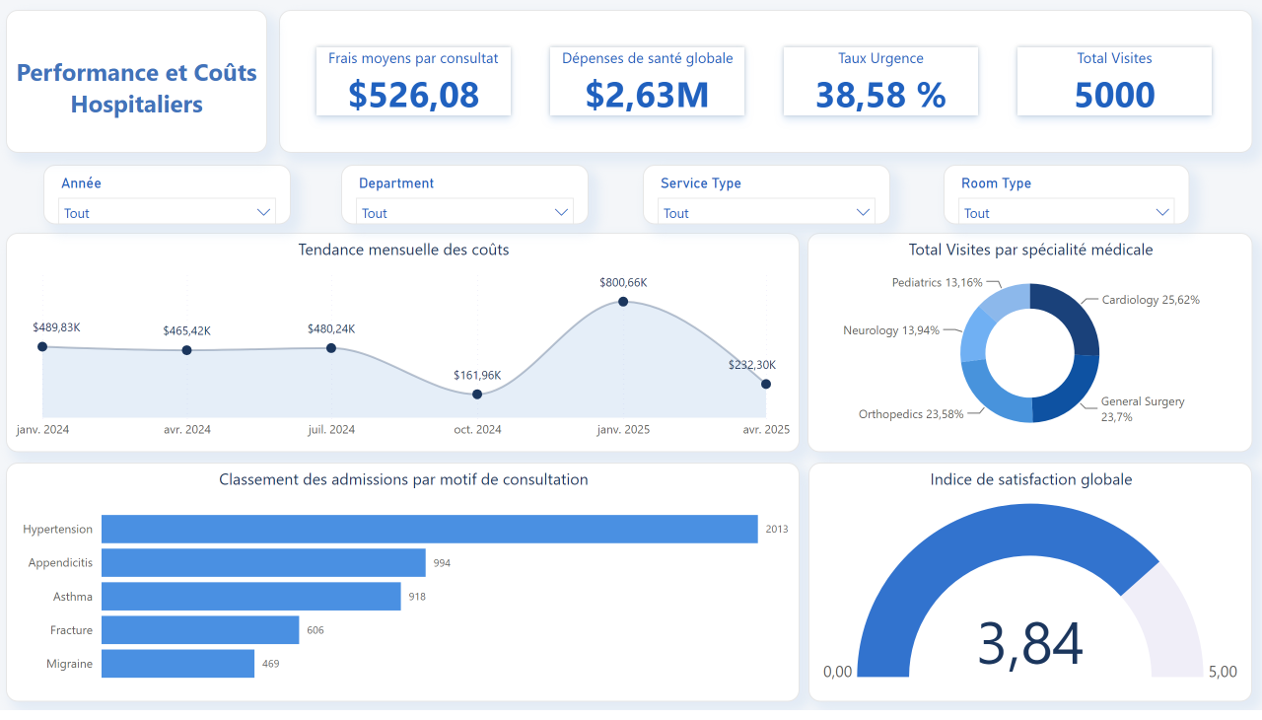

This screenshot's page, from the dashboard's own definition file:
{"tool":"powerbi","page":{"name":"Vue d'ensemble","canvas":[1280,720],"ordinal":0},"visuals":[{"type":"cardVisual","fields":{"Data":["_Mesures.Coût Moyen Visite","_Mesures.Coût Total","_Mesures.Taux Urgence","_Mesures.Total Visites"]},"box":[282.5,10,987.5,145],"z":0},{"type":"areaChart","title":"Tendance mensuelle des coûts","fields":{"Category":["visits.Date of Visit.Variation.Hiérarchie de dates.Année","visits.Date of Visit.Variation.Hiérarchie de dates.Trimestre","visits.Date of Visit.Variation.Hiérarchie de dates.Mois","visits.Date of Visit.Variation.Hiérarchie de dates.Jour"],"Y":["_Mesures.Coût Total"]},"box":[6.2,236.2,805,222.5],"z":1000},{"type":"donutChart","title":"Total Visites par spécialité médicale","fields":{"Category":["departments.Department"],"Y":["_Mesures.Total Visites"]},"box":[818.8,236.2,451.2,222.5],"z":2000},{"type":"slicer","fields":{"Values":["departments.Department"]},"box":[346.5,167.5,250.9,60.3],"z":3000},{"type":"clusteredBarChart","title":"Classement des admissions par motif de consultation","fields":{"Category":["diagnoses.Diagnosis"],"Y":["_Mesures.Total Visites"]},"box":[6.2,468.8,805,242.5],"z":4000},{"type":"slicer","fields":{"Values":["visits.Date of Visit.Variation.Hiérarchie de dates.Année"]},"box":[43.7,167.5,250.9,60.3],"z":5000},{"type":"gauge","title":"Indice de satisfaction globale","fields":{"Y":["_Mesures.Satisfaction Moyenne"]},"box":[820,468.8,450,242.5],"z":6000},{"type":"slicer","fields":{"Values":["visits.Service Type"]},"box":[651.7,167.5,250.9,60.3],"z":7000},{"type":"slicer","fields":{"Values":["visits.Room Type"]},"box":[956.9,167.5,249.7,60.3],"z":8000},{"type":"textbox","box":[6.2,10,265,145],"z":9000}]}

Visuals, with their boxes in screenshot pixels (x1, y1, x2, y2), scaled from the page's 1280x720 canvas onto the 1262x720 screenshot:
cardVisual - _Mesures.Coût Moyen Visite x _Mesures.Coût Total: region(279, 10, 1252, 155)
"Tendance mensuelle des coûts" areaChart: region(6, 236, 800, 459)
"Total Visites par spécialité médicale" donutChart: region(807, 236, 1252, 459)
slicer - departments.Department: region(342, 168, 589, 228)
"Classement des admissions par motif de consultation" clusteredBarChart: region(6, 469, 800, 711)
slicer - visits.Date of Visit.Variation.Hiérarchie de dates.Année: region(43, 168, 290, 228)
"Indice de satisfaction globale" gauge: region(808, 469, 1252, 711)
slicer - visits.Service Type: region(643, 168, 890, 228)
slicer - visits.Room Type: region(943, 168, 1190, 228)
textbox: region(6, 10, 267, 155)
